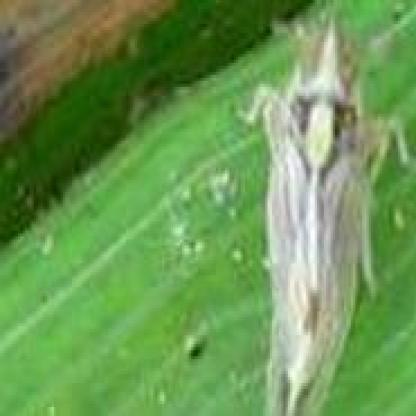brown-planthopper: (245, 17, 376, 416)
